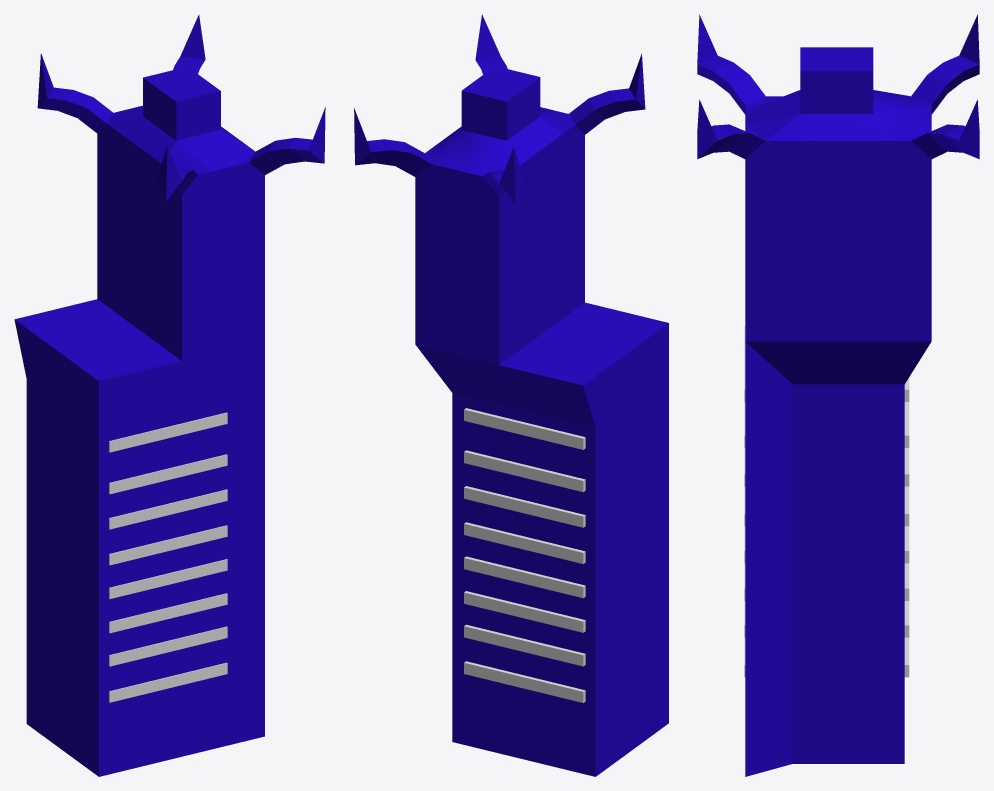
The picture shows the model from 3 angles, left to right: view 1: azimuth 30°, elevation 25°; view 2: azimuth 150°, elevation 25°; view 3: azimuth 270°, elevation 25°; orthographic projection. The views are drawn at different scales.
Visible parts, largest first — view 1: Box003, Box011; view 2: Box003, Box011; view 3: Box003, Box011.
Boxes of the visible parts, x1,y1,x2,y2 form: Box003: [14, 15, 325, 776]; Box011: [109, 412, 227, 702]; Box003: [354, 14, 668, 776]; Box011: [464, 408, 585, 702]; Box003: [697, 14, 979, 776]; Box011: [744, 326, 909, 677].
Bounding box in the file's own units: 37.48 × 111 × 40.52.
